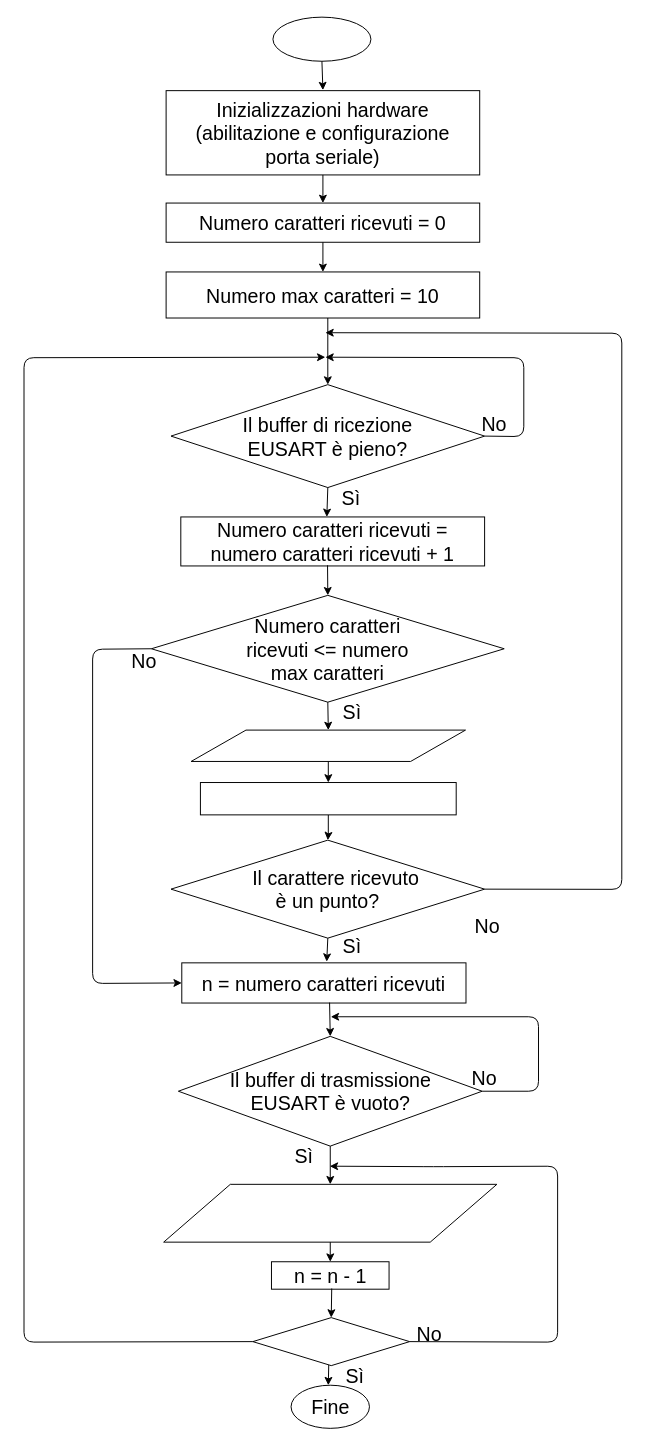
This 647x1446 diagram has some shape labels left out. The shapes that lost their labels are listed below. From the top down, each one's centre as x and y in pixels, then its label:
point 321,38: Inizio
point 328,745: Lettura carattere
point 327,798: Salvataggio carattere
point 330,1212: Trasmissione carattere n - esimo
point 331,1341: n = 0
